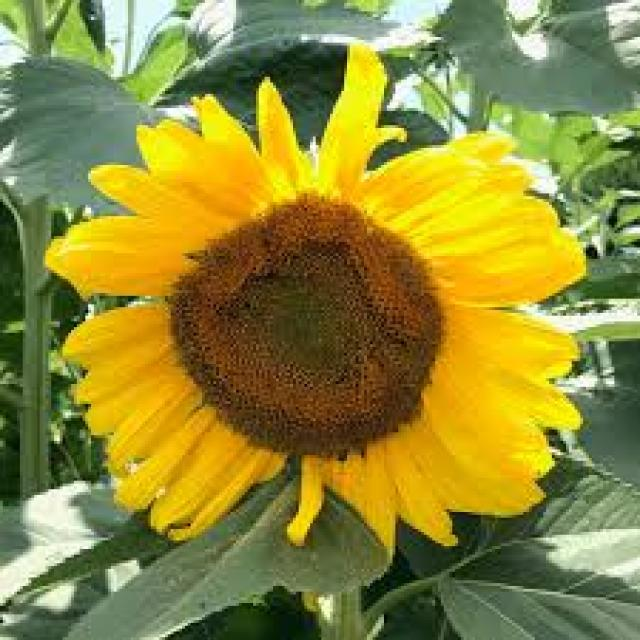sunflower: (40, 36, 593, 582)
